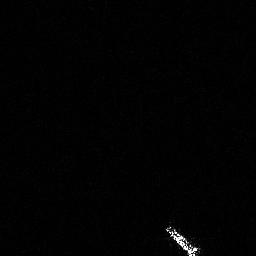ship: (161, 221, 204, 256)
